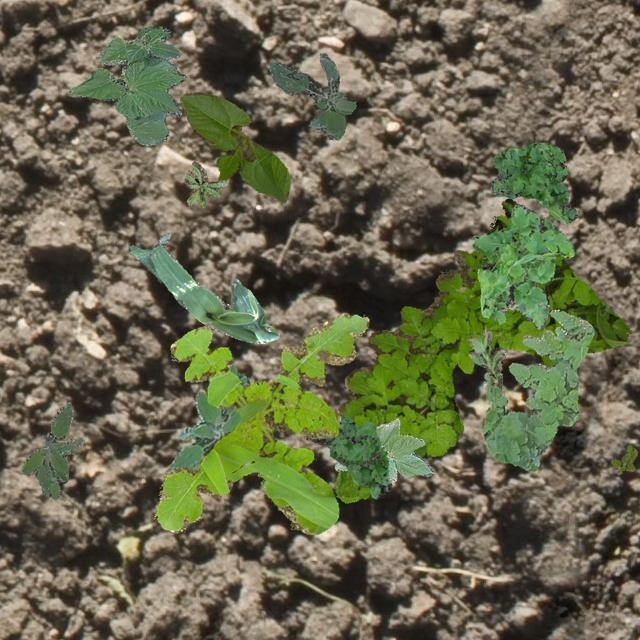crop: (128, 232, 278, 342), (66, 24, 185, 144), (178, 90, 288, 202), (333, 418, 432, 480)
weed: (334, 198, 630, 502), (154, 312, 368, 532), (482, 308, 592, 471), (469, 204, 574, 328), (164, 362, 248, 473), (268, 52, 356, 138), (302, 414, 390, 498), (491, 142, 576, 222), (21, 400, 84, 498), (468, 328, 506, 394), (184, 160, 226, 207), (610, 444, 636, 474)
